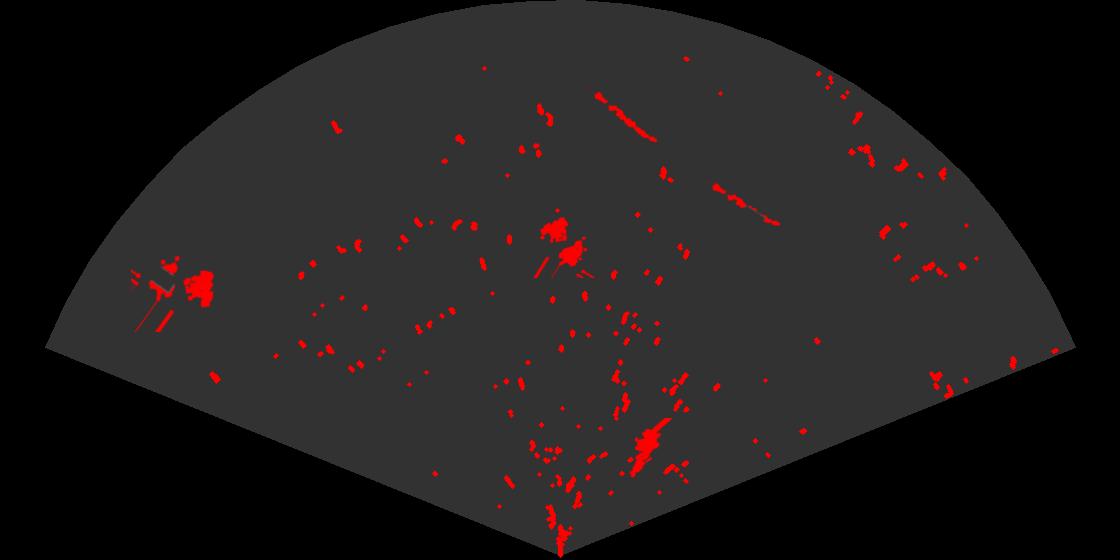cage: (131, 254, 216, 332), (532, 215, 597, 278)
chain: (584, 86, 659, 144), (702, 177, 782, 228)
frogman: (628, 418, 673, 479)
